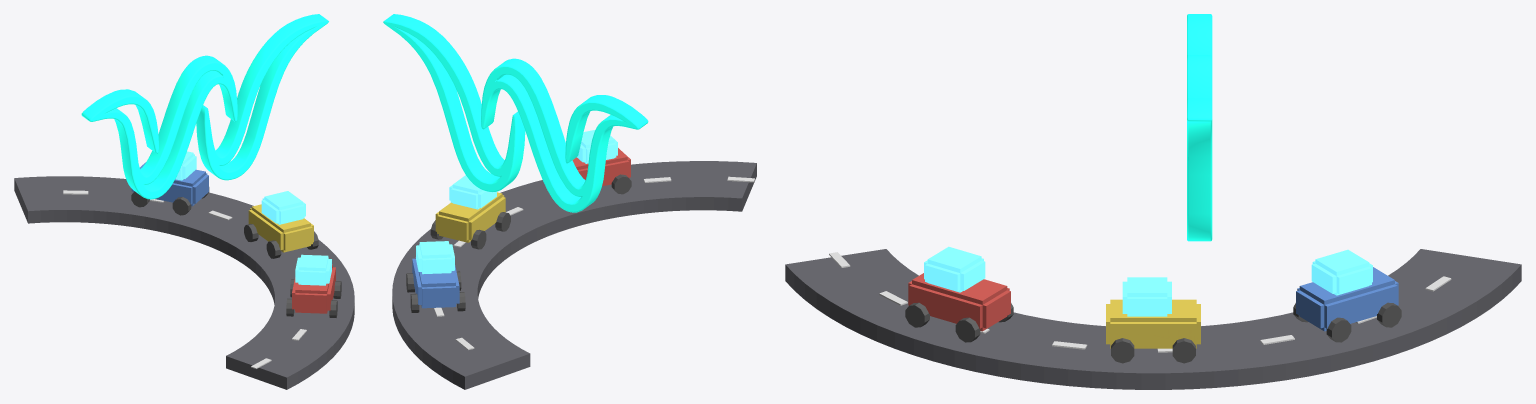
File: wegir.glb
The picture shows the model from 3 angles, left to right: view 1: azimuth 30°, elevation 25°; view 2: azimuth 150°, elevation 25°; view 3: azimuth 270°, elevation 25°; orthographic projection. The views are drawn at different scales.
Visible parts, largest first — view 1: Road, Weg_Logo, Car1_Body, Car0_Body, Car1_Cab, Car2_Body, Car0_Cab, Car2_Cab; view 2: Road, Weg_Logo, Car1_Body, Car2_Body, Car2_Cab, Car1_Cab, Car0_Body, Car0_Cab; view 3: Road, Weg_Logo, Car0_Body, Car1_Body, Car2_Body, Car2_Cab, Car0_Cab, Car1_Cab.
Boxes of the visible parts, box(x1,y1,x2,y2) form: Road: box(14, 176, 354, 389); Weg_Logo: box(81, 14, 328, 199); Car1_Body: box(248, 204, 313, 252); Car0_Body: box(292, 264, 335, 313); Car1_Cab: box(261, 191, 305, 224); Car2_Body: box(131, 162, 208, 206); Car0_Cab: box(295, 254, 331, 285); Car2_Cab: box(175, 151, 196, 180); Road: box(392, 161, 756, 389); Weg_Logo: box(383, 14, 648, 212); Car1_Body: box(435, 192, 505, 242); Car2_Body: box(412, 257, 459, 308); Car2_Cab: box(416, 241, 454, 274); Car1_Cab: box(449, 175, 496, 209); Car0_Body: box(572, 148, 630, 186); Car0_Cab: box(577, 129, 617, 163); Road: box(785, 249, 1521, 389); Weg_Logo: box(1187, 14, 1212, 241); Car0_Body: box(908, 273, 1010, 331); Car1_Body: box(1106, 299, 1200, 348); Car2_Body: box(1296, 267, 1398, 331); Car2_Cab: box(1311, 249, 1372, 295); Car0_Cab: box(924, 246, 985, 292); Car1_Cab: box(1122, 277, 1171, 316).
Size of the model in its own units: 2.43 by 2.09 by 4.79.
